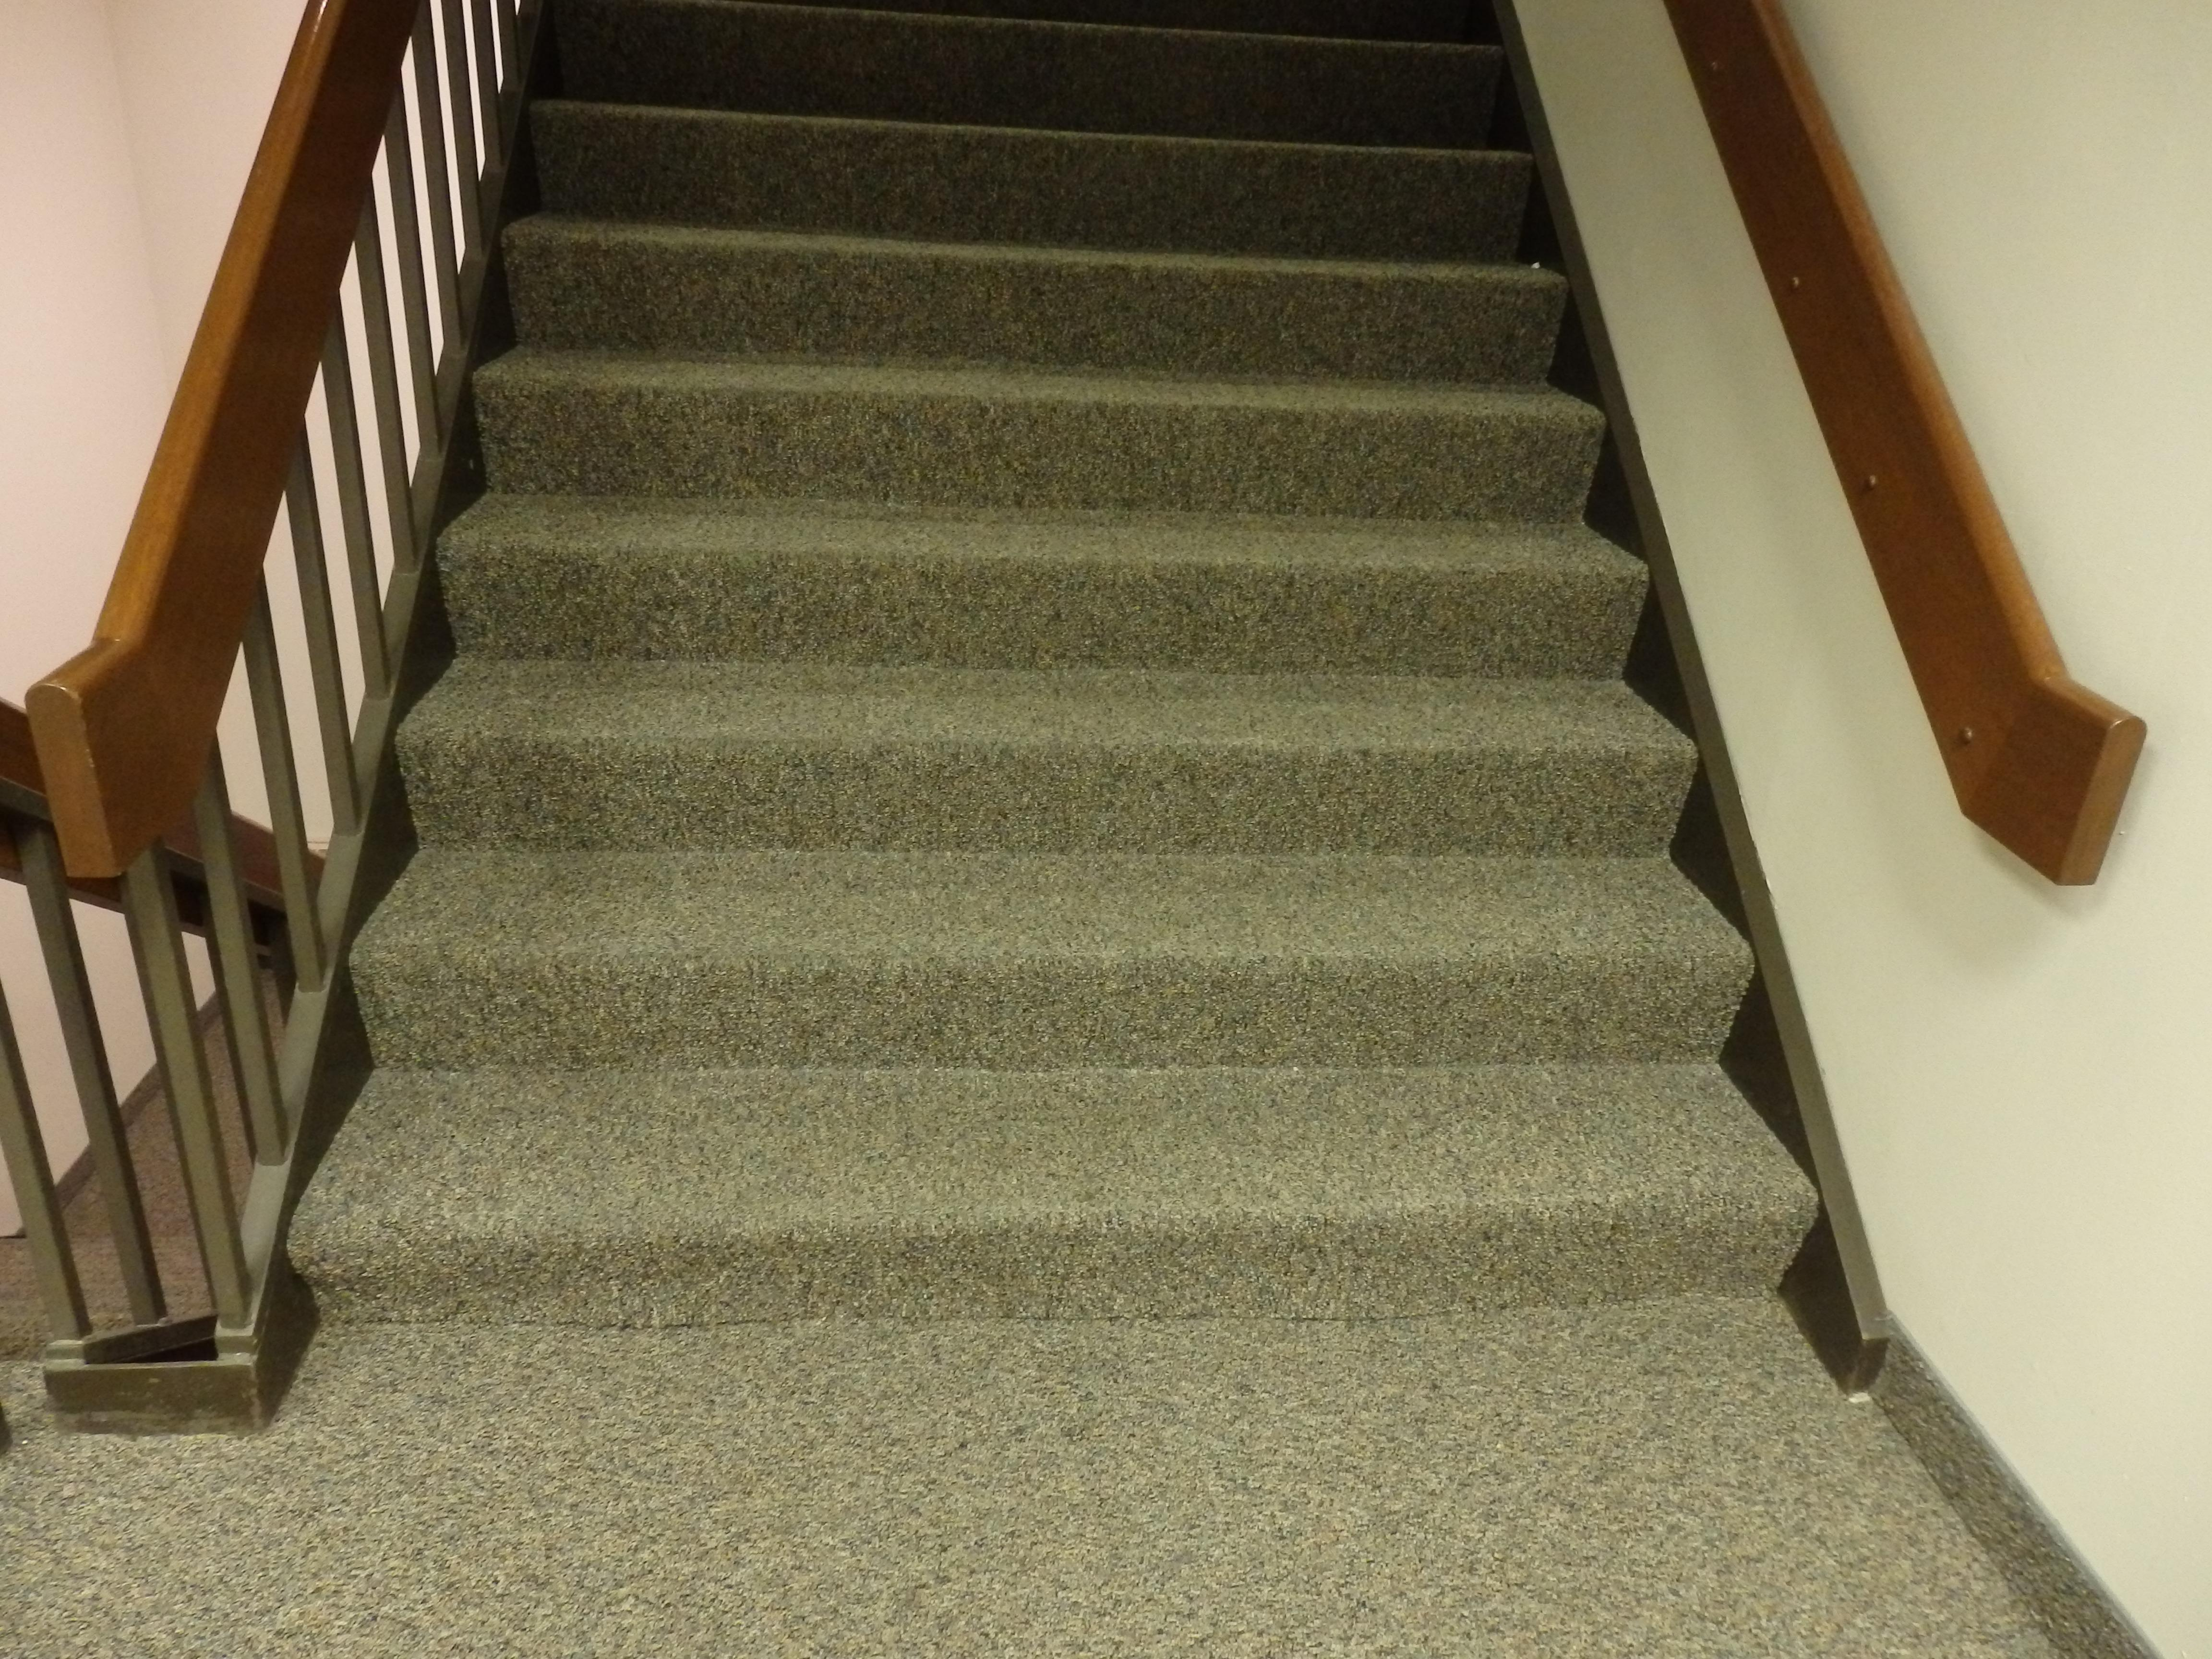stairs_up: (275, 82, 1836, 1335)
